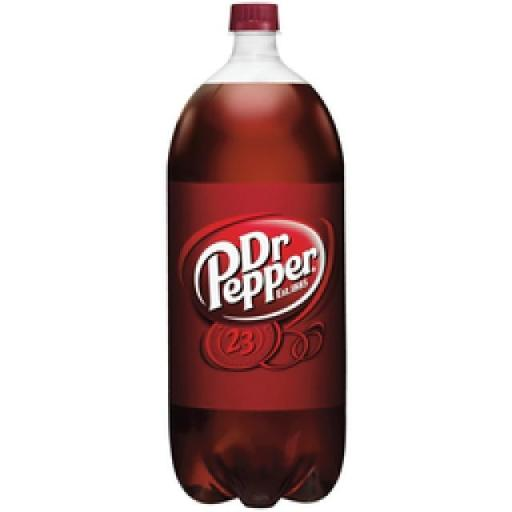plastic: (164, 0, 346, 506)
